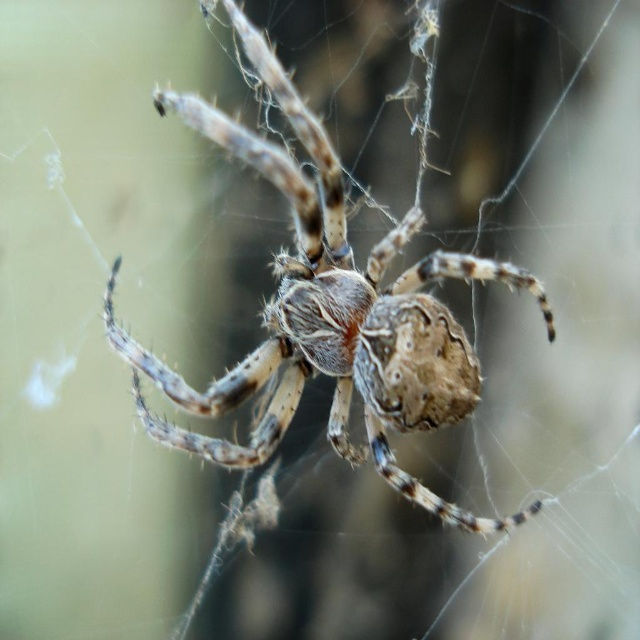Spider: (97, 0, 555, 541)
